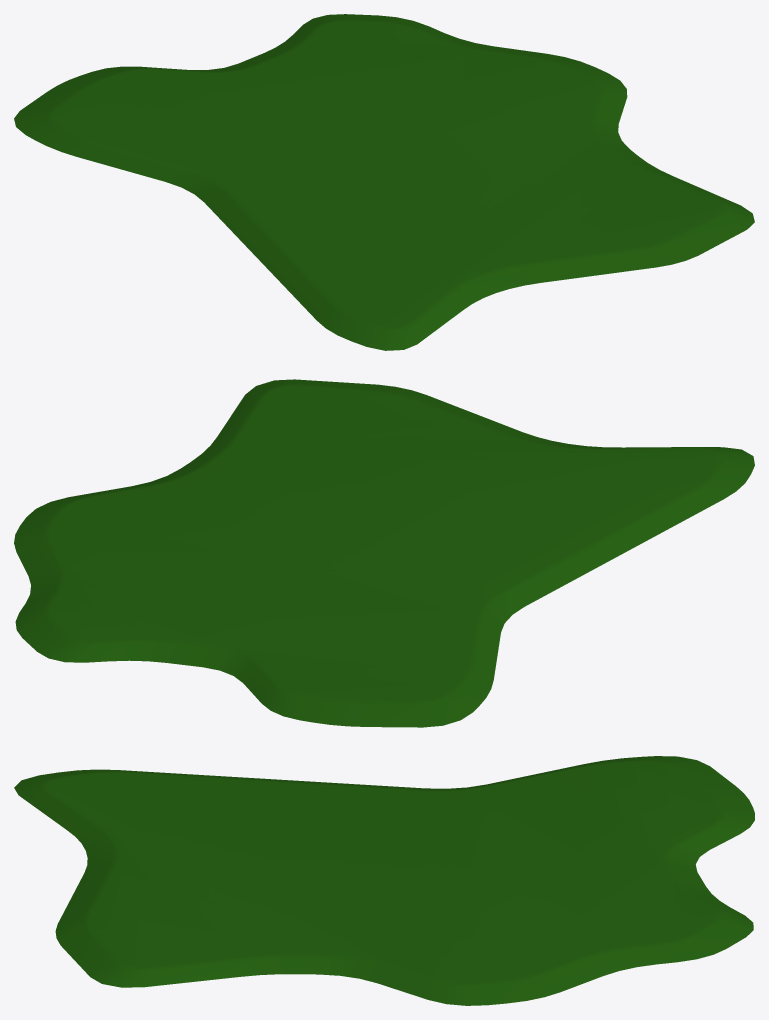
The model's file is GroundPadding03_3.fbx.
3 views of the same model, one above another, from view 1: azimuth 30°, elevation 25°; view 2: azimuth 150°, elevation 25°; view 3: azimuth 270°, elevation 25° (orthographic). The views are drawn at different scales.
Parts seen in each view (by area): view 1: LOD0; view 2: LOD0; view 3: LOD0.
Boxes of the visible parts, bbox=[...] form: LOD0: bbox=[14, 14, 754, 350]; LOD0: bbox=[14, 379, 754, 727]; LOD0: bbox=[14, 756, 754, 1005].
Size of what is drawn, in the model's own units: 1323 by 1658 by 20.75.
